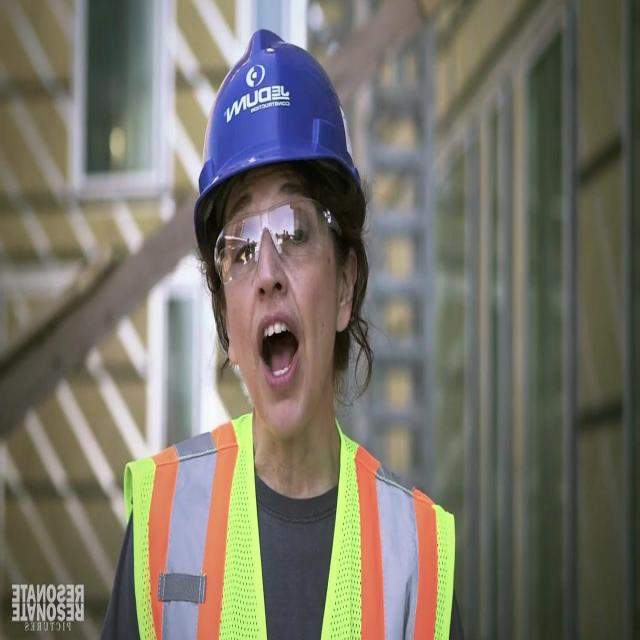Reflective-Jacket: (118, 409, 468, 640)
Safety-Helmet: (187, 26, 377, 250)
